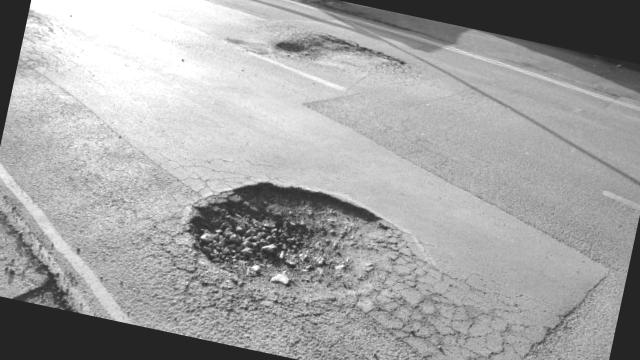Pothole: (170, 132, 452, 343), (255, 17, 402, 96)
